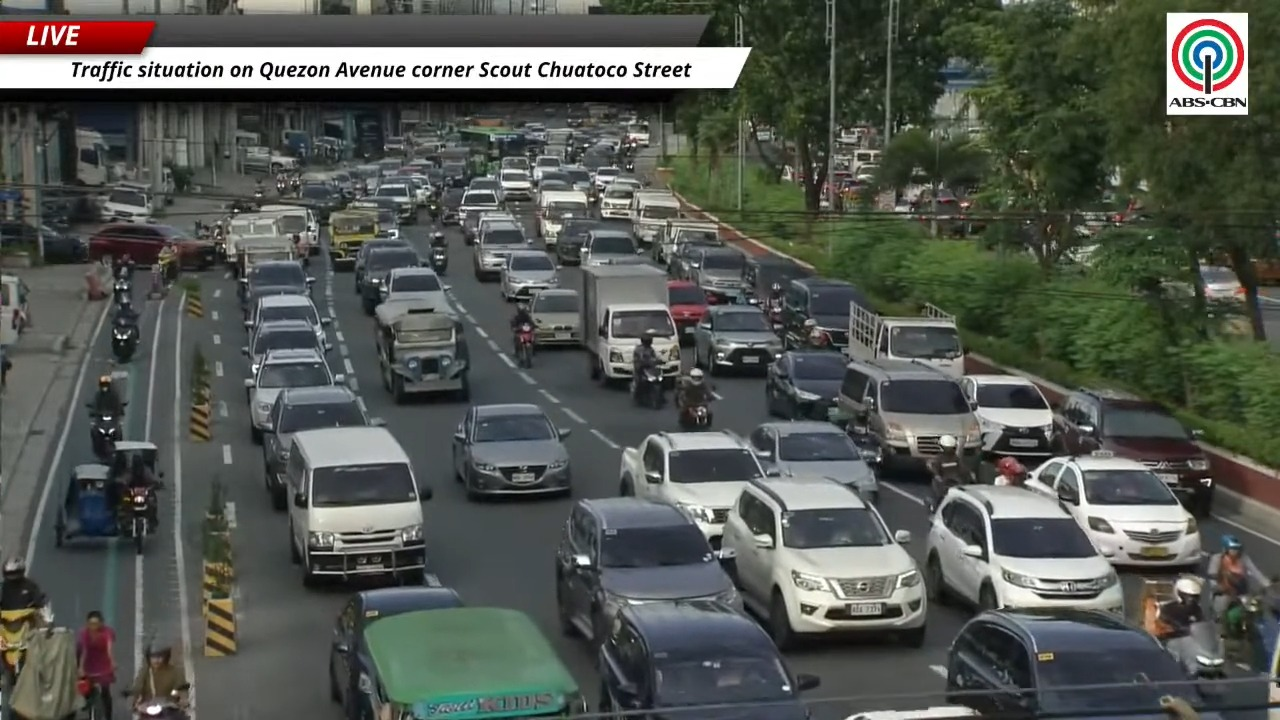bus: (459, 126, 527, 159)
car: (722, 476, 927, 648), (946, 609, 1201, 719), (555, 498, 740, 642), (598, 600, 819, 719), (925, 485, 1124, 615), (1053, 388, 1214, 516), (1026, 451, 1201, 566), (620, 430, 765, 549), (328, 586, 463, 711), (837, 359, 981, 471), (263, 385, 384, 511), (452, 403, 570, 498), (748, 420, 878, 503), (244, 349, 344, 443), (960, 374, 1053, 457), (694, 305, 781, 375), (782, 277, 869, 347), (88, 223, 215, 269), (765, 349, 845, 420), (241, 320, 330, 375), (358, 247, 421, 315), (245, 294, 330, 341), (240, 260, 313, 311), (0, 221, 88, 262), (650, 219, 725, 265), (473, 220, 528, 281), (353, 239, 411, 294), (743, 254, 812, 300), (690, 246, 745, 303), (380, 267, 450, 311), (500, 250, 559, 301), (529, 288, 581, 345), (667, 280, 708, 343), (100, 182, 162, 223), (667, 239, 721, 283), (347, 196, 400, 239), (580, 227, 637, 266), (554, 217, 600, 264), (462, 210, 522, 245), (845, 705, 979, 719), (373, 181, 417, 223), (298, 184, 345, 221), (458, 189, 502, 222), (597, 184, 634, 220), (535, 171, 572, 205), (561, 165, 594, 198), (500, 168, 532, 200), (440, 187, 464, 225), (532, 155, 563, 182), (441, 162, 469, 188), (593, 166, 621, 190), (468, 175, 501, 195), (610, 175, 643, 191), (500, 156, 530, 172)
motorcycle: (1164, 618, 1225, 694), (1220, 594, 1279, 671), (0, 605, 52, 678), (927, 465, 973, 513), (133, 683, 189, 719), (127, 486, 153, 554), (90, 413, 121, 462), (632, 365, 665, 409), (111, 323, 138, 362), (515, 323, 534, 368), (679, 403, 710, 430), (765, 299, 783, 332), (113, 274, 131, 306), (429, 246, 447, 274), (428, 200, 441, 222), (290, 178, 300, 195), (276, 181, 287, 196), (253, 186, 264, 200), (624, 159, 634, 172)
truck: (580, 264, 680, 383), (375, 301, 469, 403), (846, 303, 964, 378), (224, 213, 282, 271), (651, 218, 722, 263), (236, 235, 297, 277), (75, 127, 110, 186), (241, 146, 298, 173)
